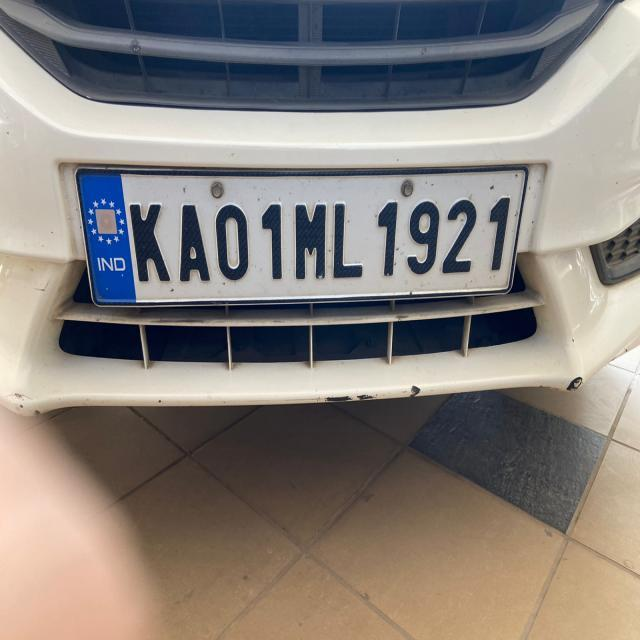0: (213, 202, 253, 288)
1: (257, 200, 289, 288), (374, 200, 402, 285), (484, 190, 510, 278)
9: (404, 194, 442, 284)
A: (176, 198, 213, 294)
K: (126, 197, 171, 290)
L: (330, 199, 367, 286)
M: (292, 196, 328, 286)
